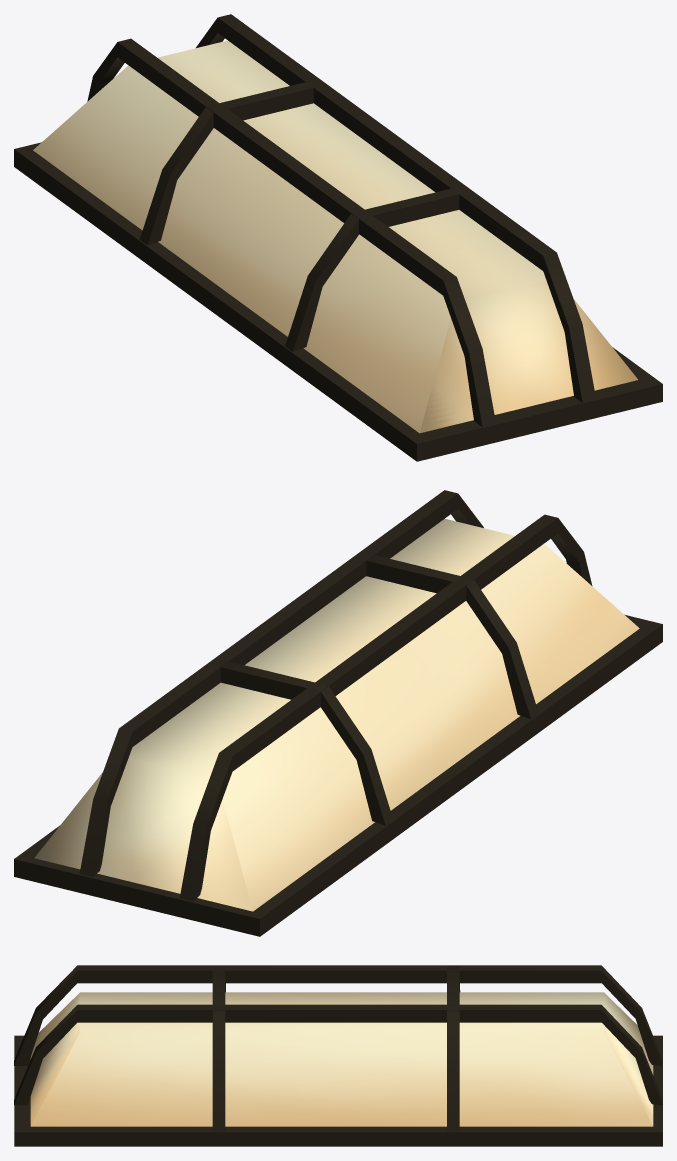
Rendered from CeilingLights.fbx.
3 views of the same model, one above another, from view 1: azimuth 30°, elevation 25°; view 2: azimuth 150°, elevation 25°; view 3: azimuth 270°, elevation 25° (orthographic). The views are drawn at different scales.
Visible parts, largest first — view 1: pCylinder21, Light_Barrier; view 2: pCylinder21, Light_Barrier; view 3: pCylinder21, Light_Barrier.
Part boxes in pixels (x1=…): pCylinder21: x1=33, y1=40, x2=637, y2=433; Light_Barrier: x1=14, y1=14, x2=662, y2=461; pCylinder21: x1=34, y1=519, x2=639, y2=911; Light_Barrier: x1=14, y1=490, x2=662, y2=936; pCylinder21: x1=30, y1=992, x2=653, y2=1126; Light_Barrier: x1=14, y1=965, x2=662, y2=1146.
Size of the model in its own units: 2.41 by 1.28 by 6.84.
